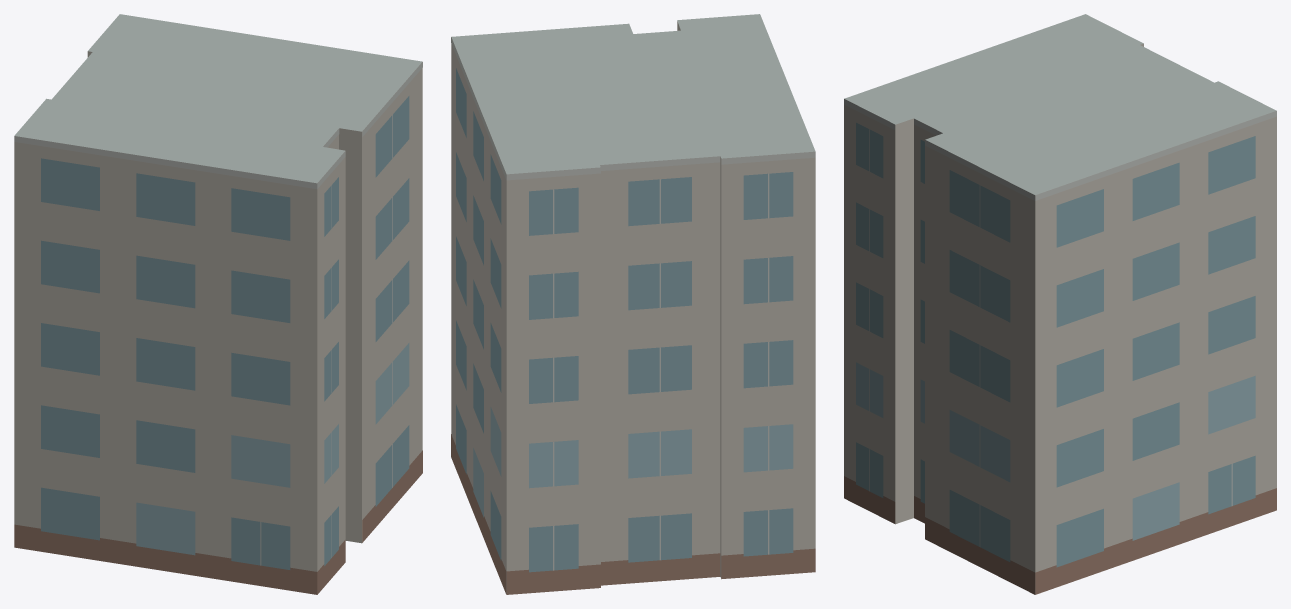
Rendered from survey-upis-32933764.glb.
The picture shows the model from 3 angles, left to right: view 1: azimuth 30°, elevation 25°; view 2: azimuth 150°, elevation 25°; view 3: azimuth 270°, elevation 25°; orthographic projection. The views are drawn at different scales.
Visible parts, largest first — view 1: survey-upis-32933764.tmp; view 2: survey-upis-32933764.tmp; view 3: survey-upis-32933764.tmp.
Part boxes in pixels (left/top/right/bottom): survey-upis-32933764.tmp: left=14, top=14, right=422, bottom=594; survey-upis-32933764.tmp: left=451, top=14, right=815, bottom=594; survey-upis-32933764.tmp: left=844, top=14, right=1276, bottom=594.
Size of the model in its own units: 16.37 by 16.82 by 16.52.
